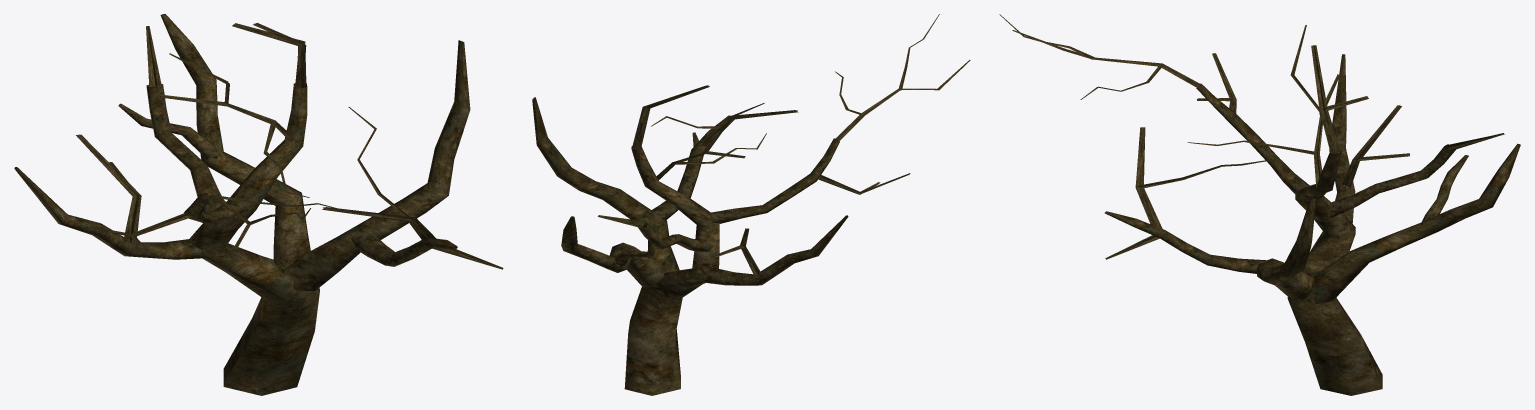
Rendered from CB_BURNT_TREE03.fbx.
3 renders of one model, left to right at view 1: azimuth 30°, elevation 25°; view 2: azimuth 150°, elevation 25°; view 3: azimuth 270°, elevation 25°, orthographic. The views are drawn at different scales.
Parts seen in each view (by area): view 1: CB_BURNT_TREE03; view 2: CB_BURNT_TREE03; view 3: CB_BURNT_TREE03.
Boxes of the visible parts, x1,y1,x2,y2 form: CB_BURNT_TREE03: (14, 14, 503, 395); CB_BURNT_TREE03: (532, 14, 970, 395); CB_BURNT_TREE03: (999, 14, 1520, 395).
Size of the model in its own units: 66964 by 56428 by 84215.
Materials: 1 (1 with a texture image).
